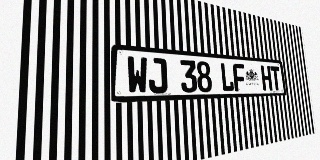3: (180, 60, 197, 93)
8: (196, 61, 212, 92)
F: (232, 63, 246, 91)
H: (261, 65, 272, 91)
J: (148, 57, 168, 93)
L: (220, 62, 234, 92)
T: (270, 66, 281, 90)
W: (126, 56, 148, 94)
